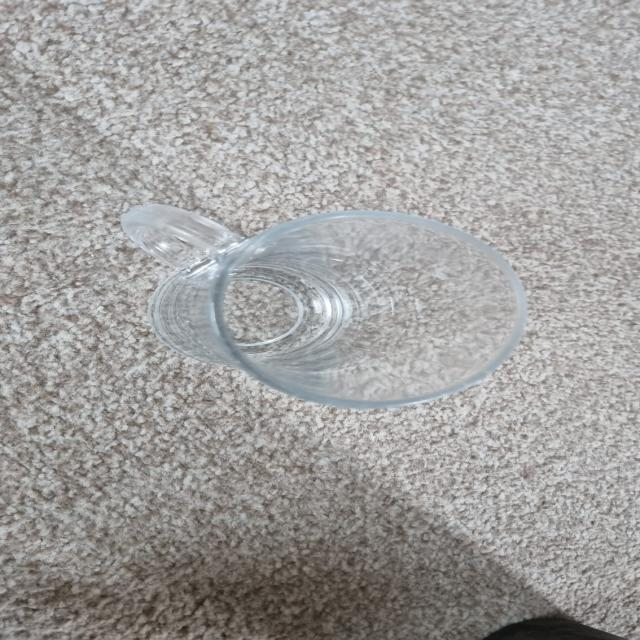Cup: (121, 204, 527, 408)
